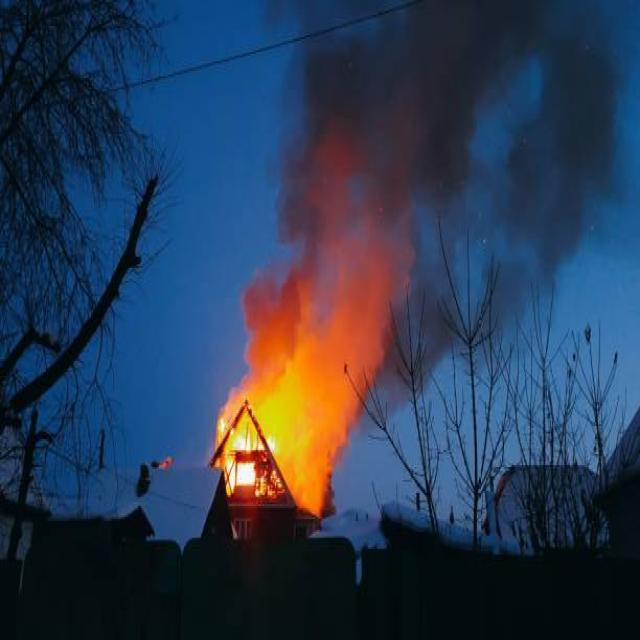Fire: (211, 342, 303, 497)
Smoke: (216, 133, 412, 510)
